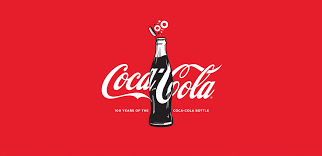coke: (130, 16, 204, 134)
